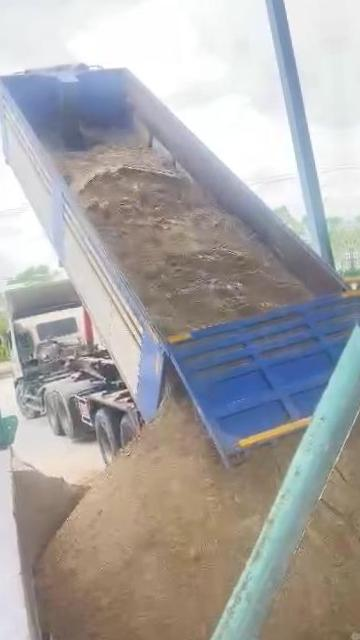sand: (39, 401, 298, 640), (56, 145, 311, 334), (262, 414, 360, 640), (16, 458, 85, 569), (158, 355, 184, 406)
